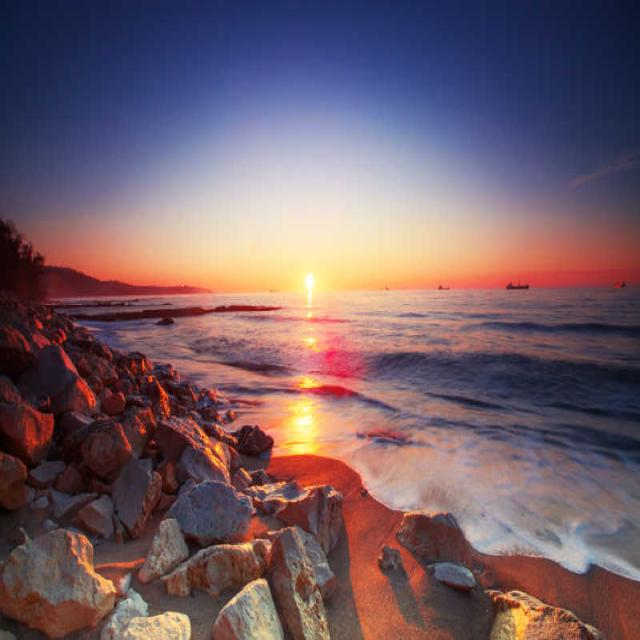reef: (124, 355, 274, 509)
